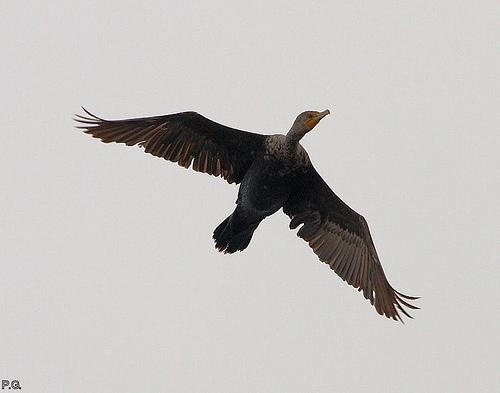bird: (70, 102, 425, 324)
